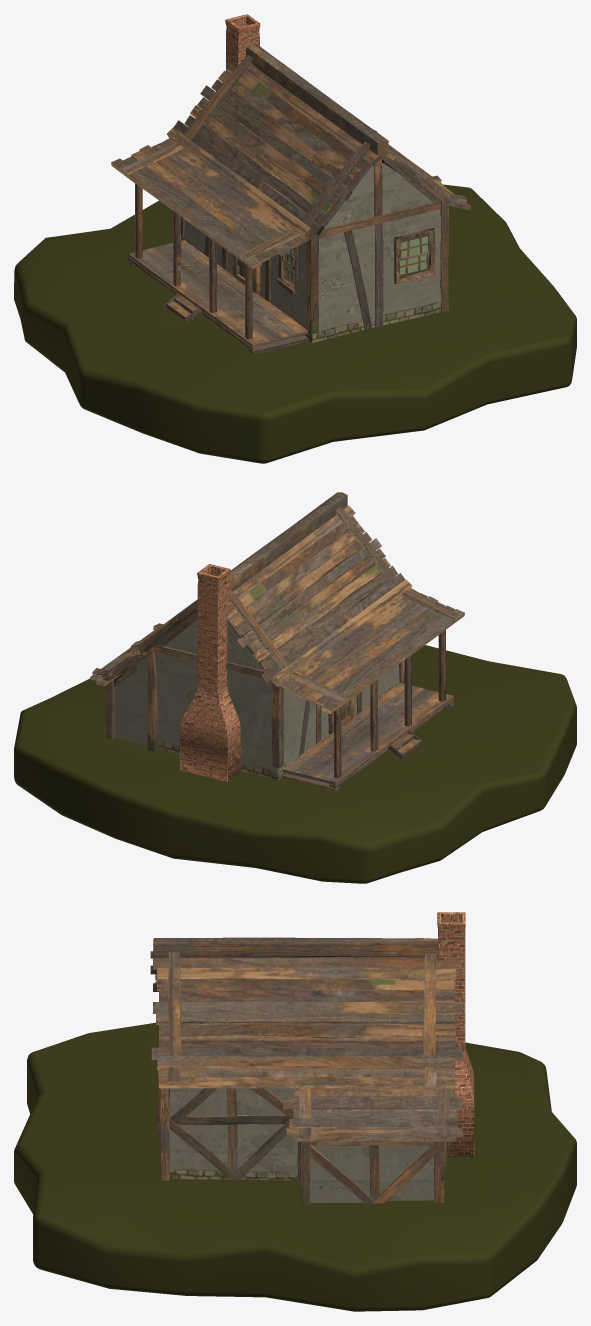
Rendered from cabin.glb.
3 renders of one model, top to bottom at view 1: azimuth 30°, elevation 25°; view 2: azimuth 150°, elevation 25°; view 3: azimuth 270°, elevation 25°, orthographic. The views are drawn at different scales.
Visible parts, largest first — view 1: Ground_ModelMain_5, Planks_ModelMain_1, Walls_ModelMain_3, Door_ModelMain_2, Beams_ModelMain_0, Shimney_ModelMain_4, Glass_ModelMain_6; view 2: Ground_ModelMain_5, Planks_ModelMain_1, Walls_ModelMain_3, Shimney_ModelMain_4, Beams_ModelMain_0, Door_ModelMain_2; view 3: Ground_ModelMain_5, Planks_ModelMain_1, Walls_ModelMain_3, Beams_ModelMain_0, Shimney_ModelMain_4.
Boxes of the visible parts, x1,y1,x2,y2 form: Ground_ModelMain_5: (14, 184, 576, 463); Planks_ModelMain_1: (111, 54, 471, 354); Walls_ModelMain_3: (181, 89, 441, 342); Door_ModelMain_2: (128, 228, 435, 347); Beams_ModelMain_0: (135, 44, 448, 339); Shimney_ModelMain_4: (225, 14, 282, 195); Glass_ModelMain_6: (284, 236, 427, 283); Ground_ModelMain_5: (14, 645, 576, 883); Planks_ModelMain_1: (90, 505, 464, 790); Walls_ModelMain_3: (115, 539, 402, 780); Shimney_ModelMain_4: (180, 564, 241, 781); Beams_ModelMain_0: (105, 492, 445, 778); Door_ModelMain_2: (282, 582, 453, 784); Ground_ModelMain_5: (14, 1022, 576, 1311); Planks_ModelMain_1: (150, 951, 462, 1203); Walls_ModelMain_3: (169, 1001, 436, 1202); Beams_ModelMain_0: (153, 937, 446, 1204); Shimney_ModelMain_4: (437, 912, 474, 1156).
Size of the model in its own units: 15.54 by 8.11 by 14.76.
7 materials, 5 textured.
